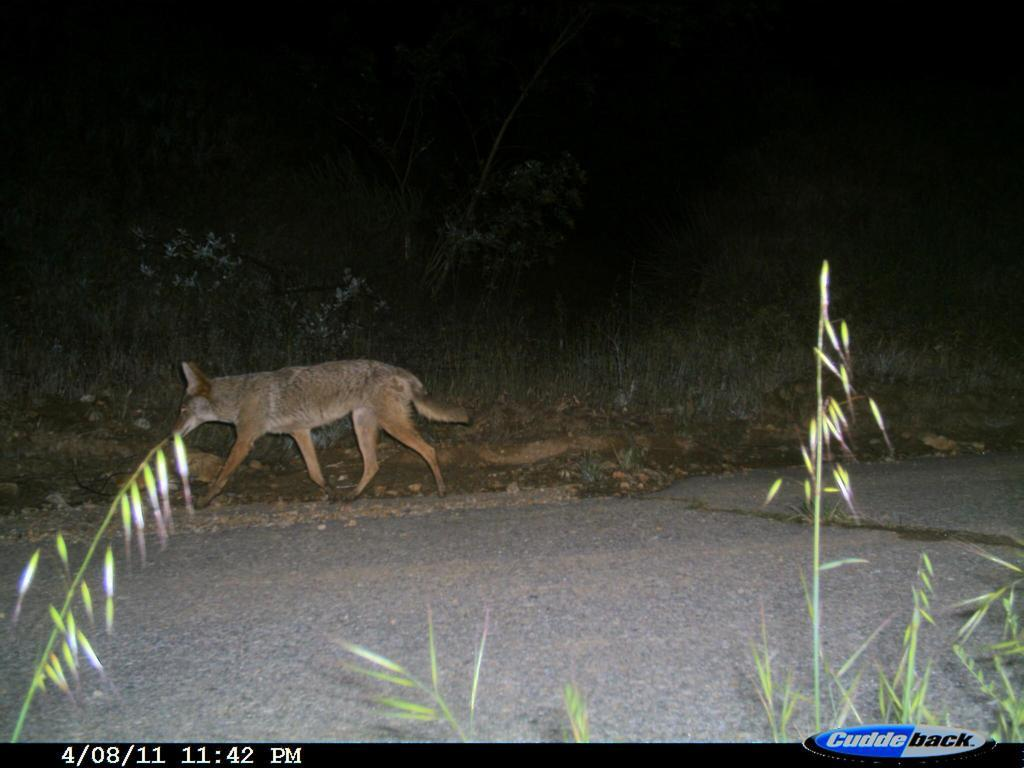coyote: (149, 349, 510, 520)
